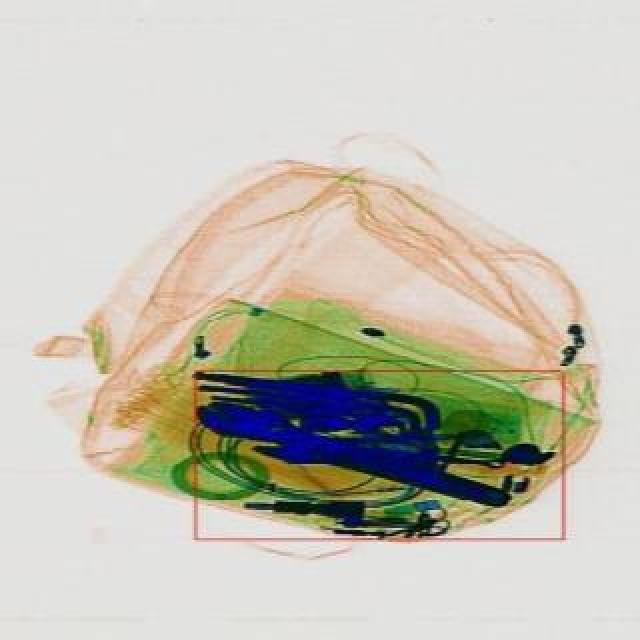scissors: (188, 384, 516, 518)
